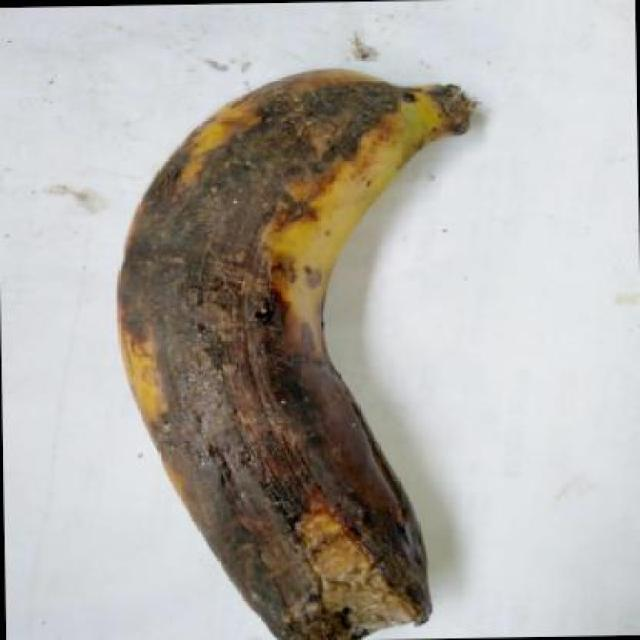Rotten: (72, 24, 535, 640)
